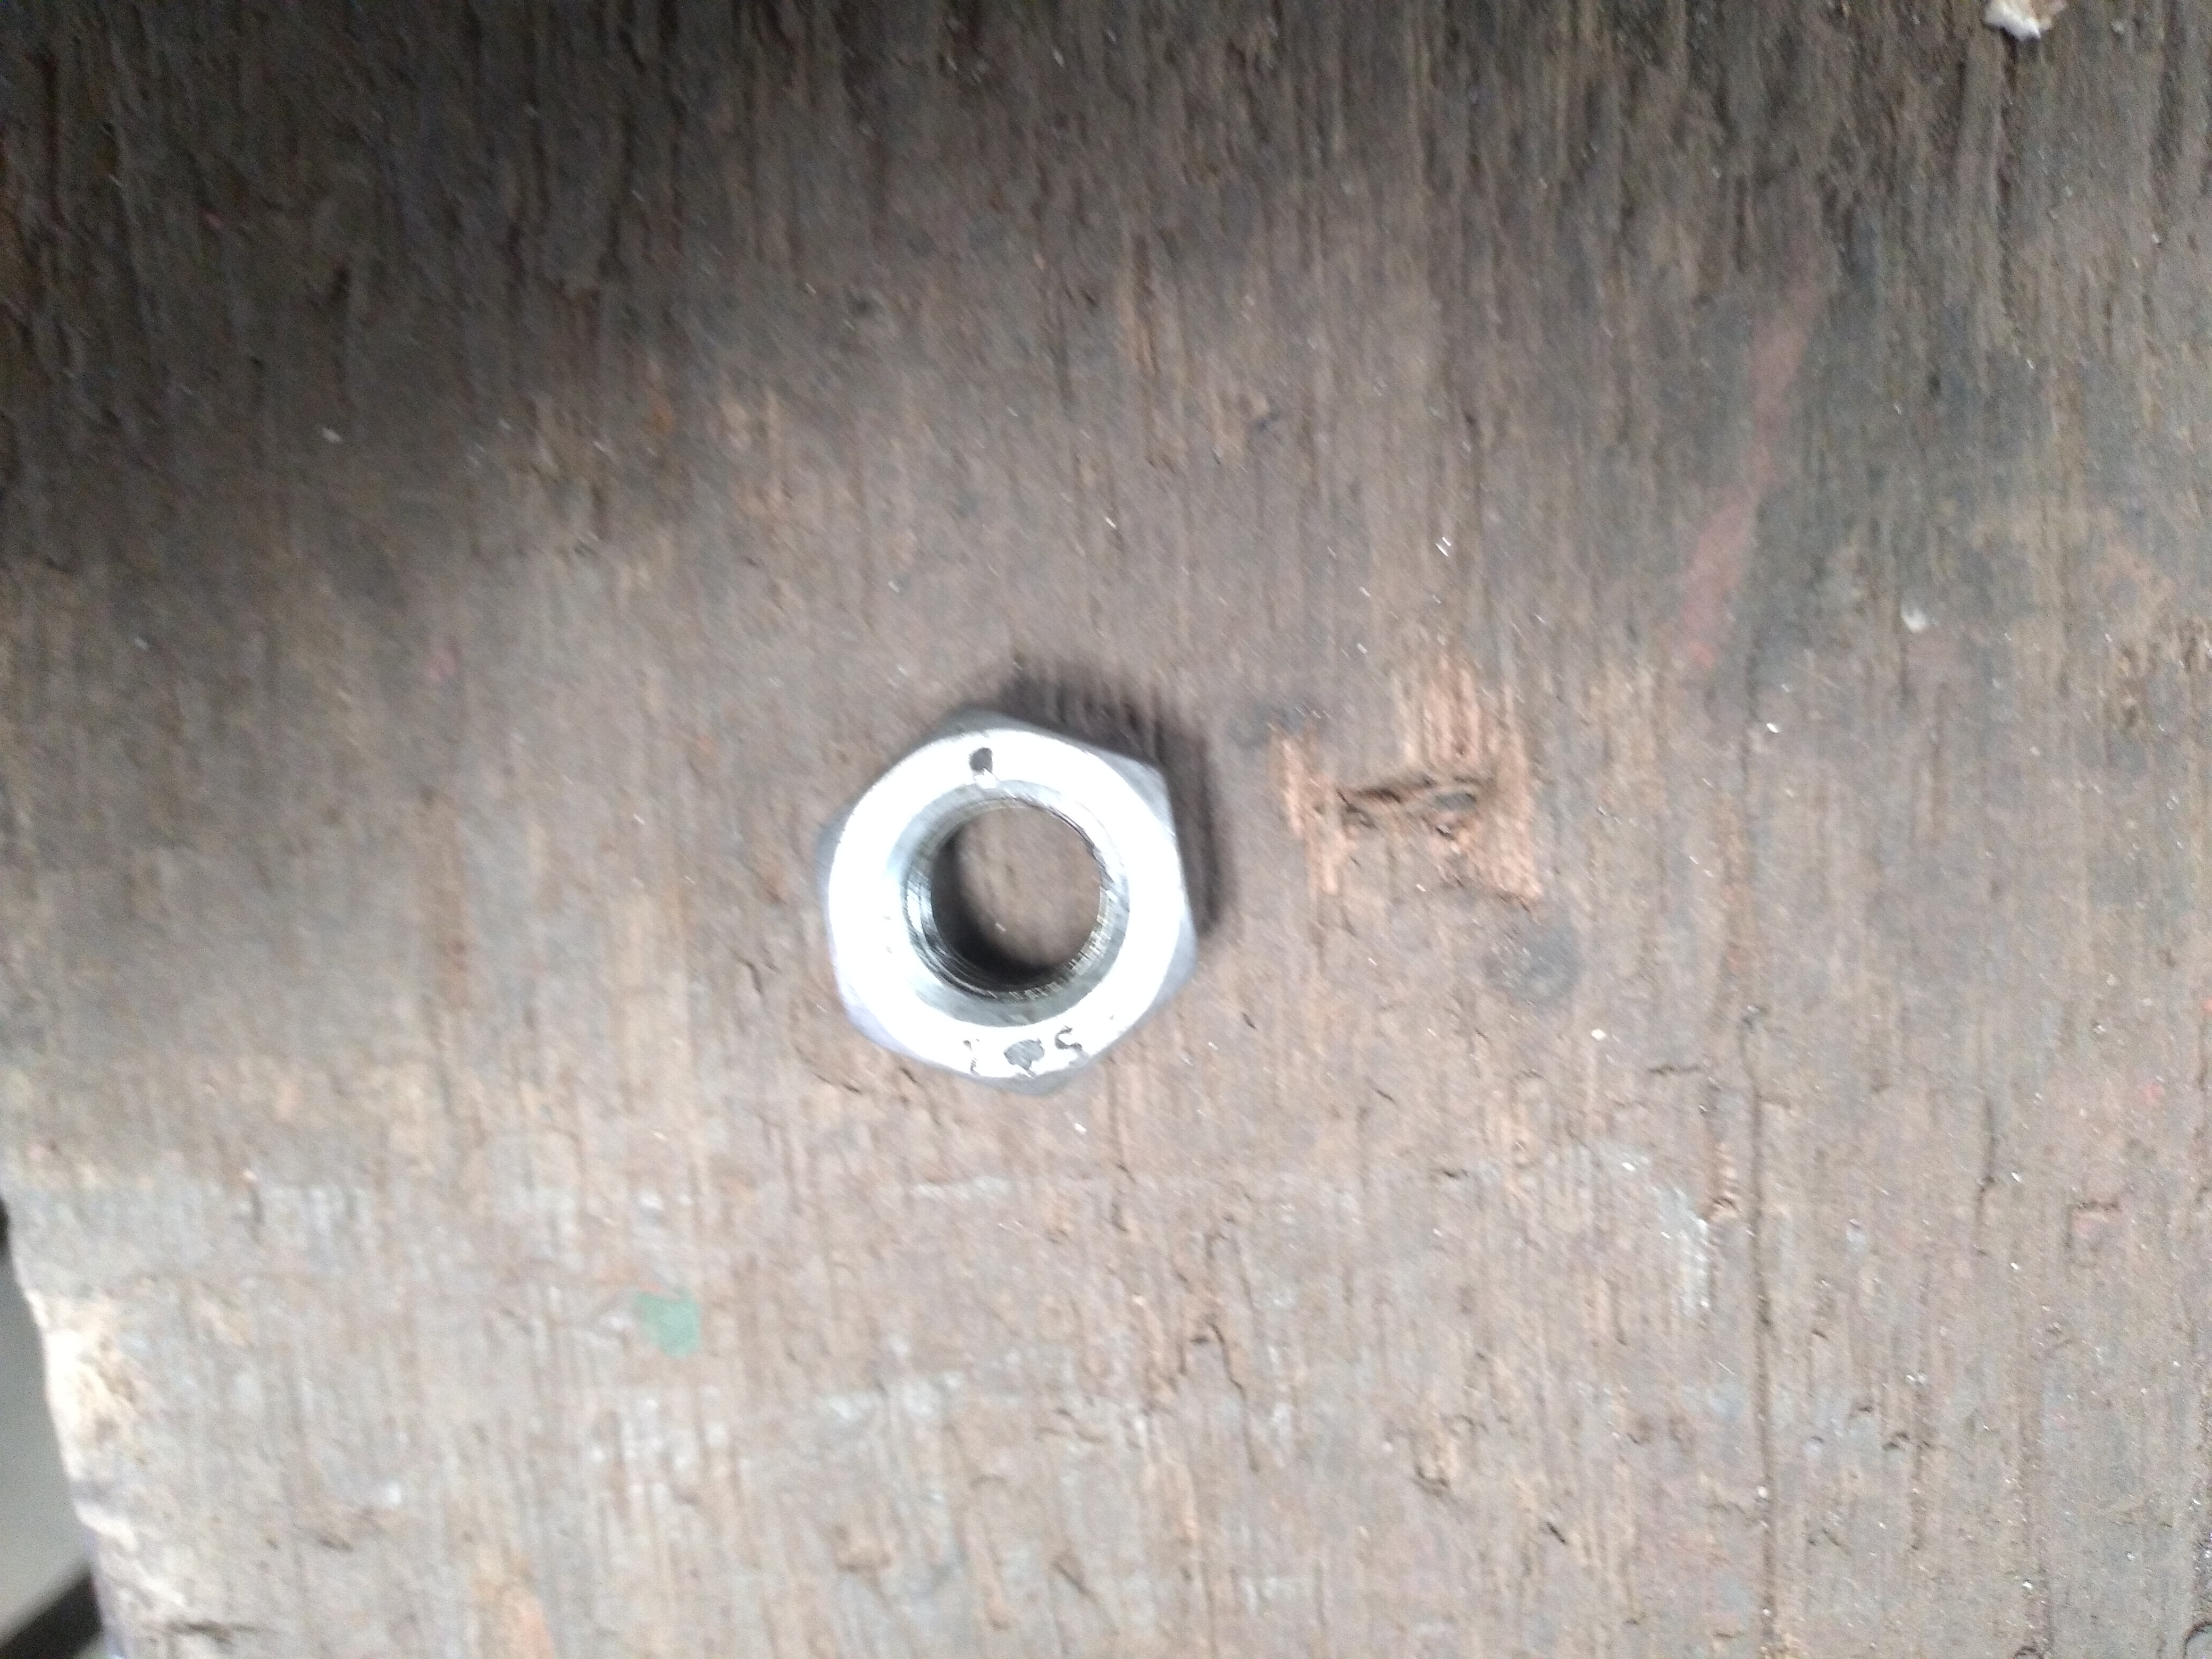Thread: (867, 760, 1146, 1026)
